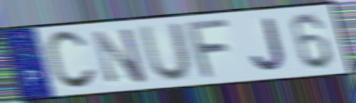6: (290, 10, 335, 73)
C: (43, 28, 99, 92)
F: (186, 17, 234, 81)
J: (249, 16, 288, 74)
N: (90, 25, 149, 85)
U: (138, 21, 194, 83)
